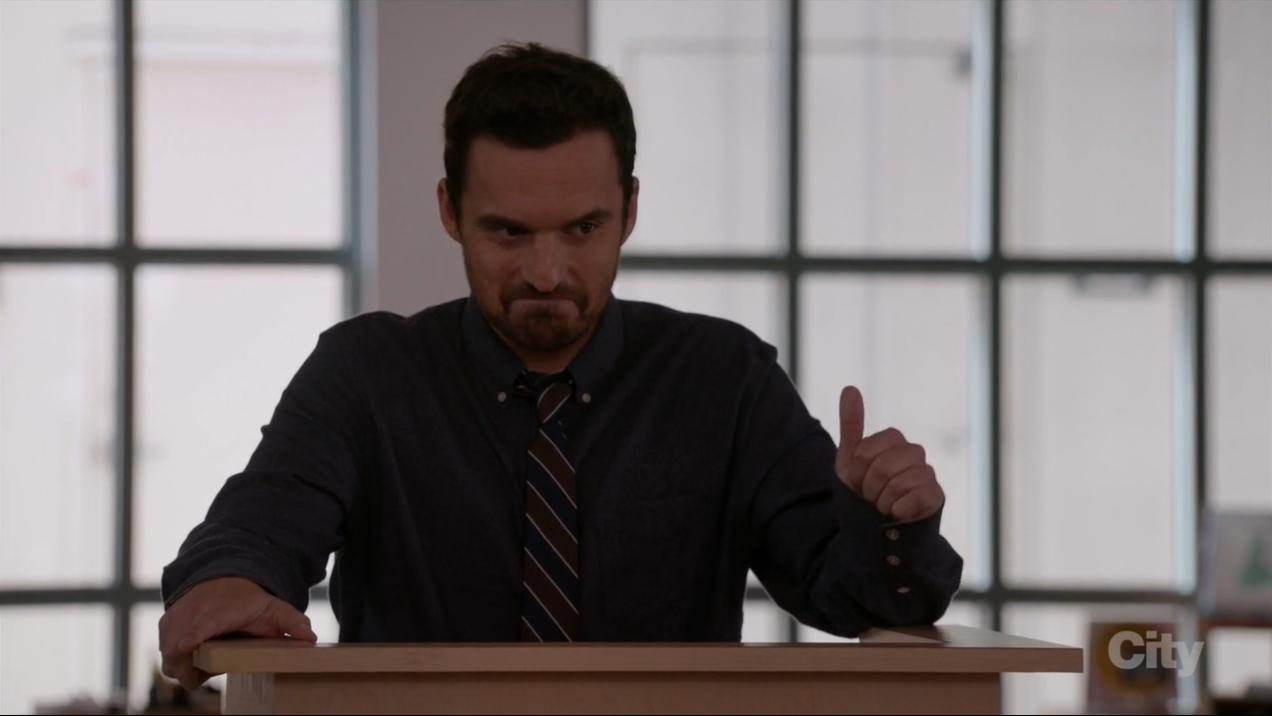person: (172, 47, 994, 651)
